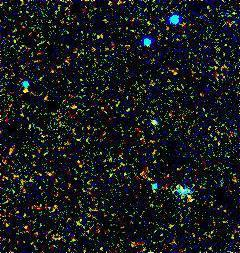star: (10, 78, 40, 108)
